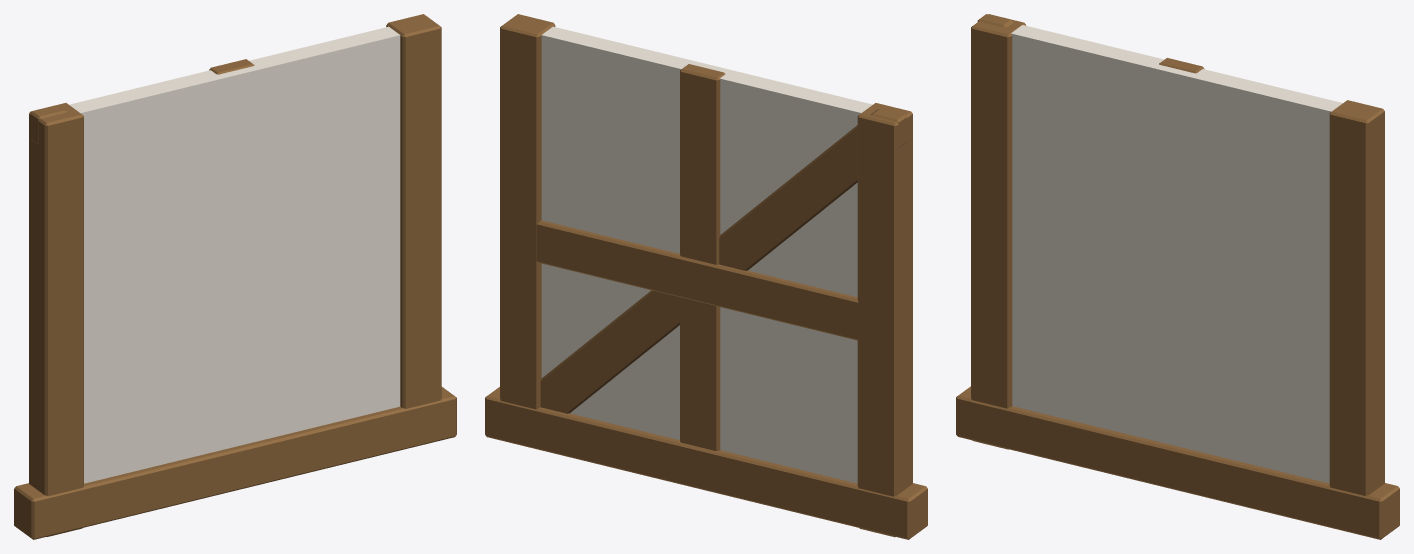
The model's file is WallCrossV.fbx.
3 views of the same model, side by side, from view 1: azimuth 30°, elevation 25°; view 2: azimuth 150°, elevation 25°; view 3: azimuth 330°, elevation 25° (orthographic).
Parts seen in each view (by area): view 1: WallCrossV, Cube.042, Cube.045, Cube.041; view 2: WallCrossV, Cube.042, Cube.045, Cube.041, Cube.044, Cube.043, Cube.039; view 3: WallCrossV, Cube.041, Cube.045, Cube.042.
Boxes of the visible parts, <box> form: WallCrossV: <box>69,26,400,483</box>; Cube.042: <box>29,103,83,536</box>; Cube.045: <box>14,387,456,539</box>; Cube.041: <box>386,14,441,408</box>; WallCrossV: <box>541,26,872,483</box>; Cube.042: <box>857,103,912,537</box>; Cube.045: <box>485,387,927,539</box>; Cube.041: <box>500,14,555,409</box>; Cube.044: <box>540,109,906,413</box>; Cube.043: <box>536,220,858,340</box>; Cube.039: <box>680,64,725,451</box>; WallCrossV: <box>1011,25,1342,483</box>; Cube.041: <box>1329,100,1384,495</box>; Cube.045: <box>956,386,1399,539</box>; Cube.042: <box>971,14,1026,449</box>.
Size of the model in its own units: 216 by 202 by 17.27.
